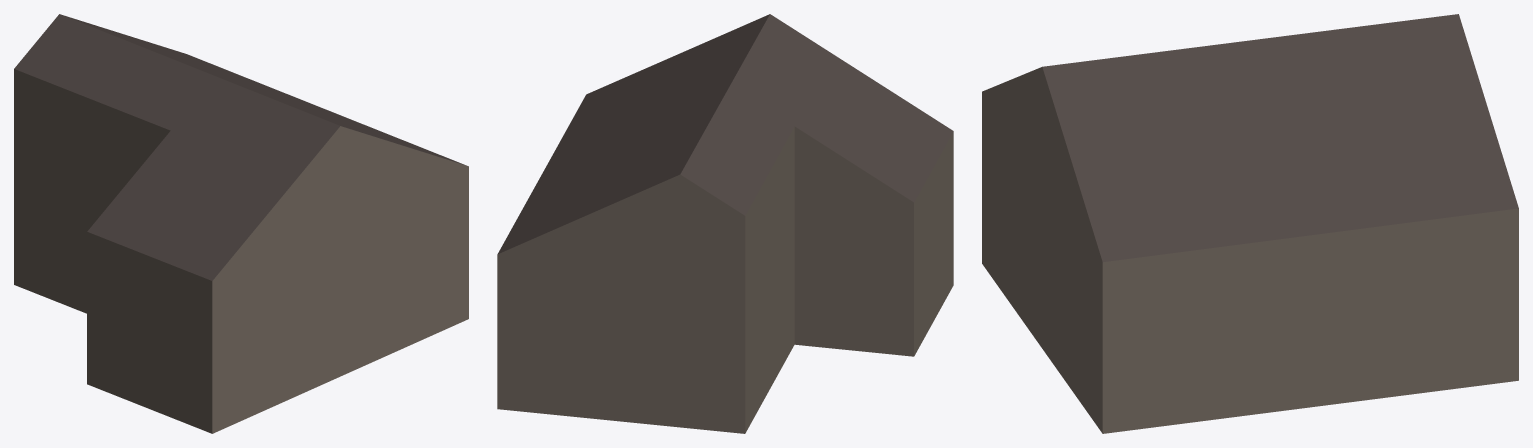
3 renders of one model, left to right at view 1: azimuth 30°, elevation 25°; view 2: azimuth 150°, elevation 25°; view 3: azimuth 270°, elevation 25°, orthographic. The views are drawn at different scales.
Parts seen in each view (by area): view 1: HP-w299224158; view 2: HP-w299224158; view 3: HP-w299224158.
Boxes of the visible parts, x1,y1,x2,y2 form: HP-w299224158: [14, 14, 468, 433]; HP-w299224158: [497, 14, 953, 433]; HP-w299224158: [982, 14, 1518, 433].
Bounding box in the file's own units: 21.8 × 14.78 × 25.5.
